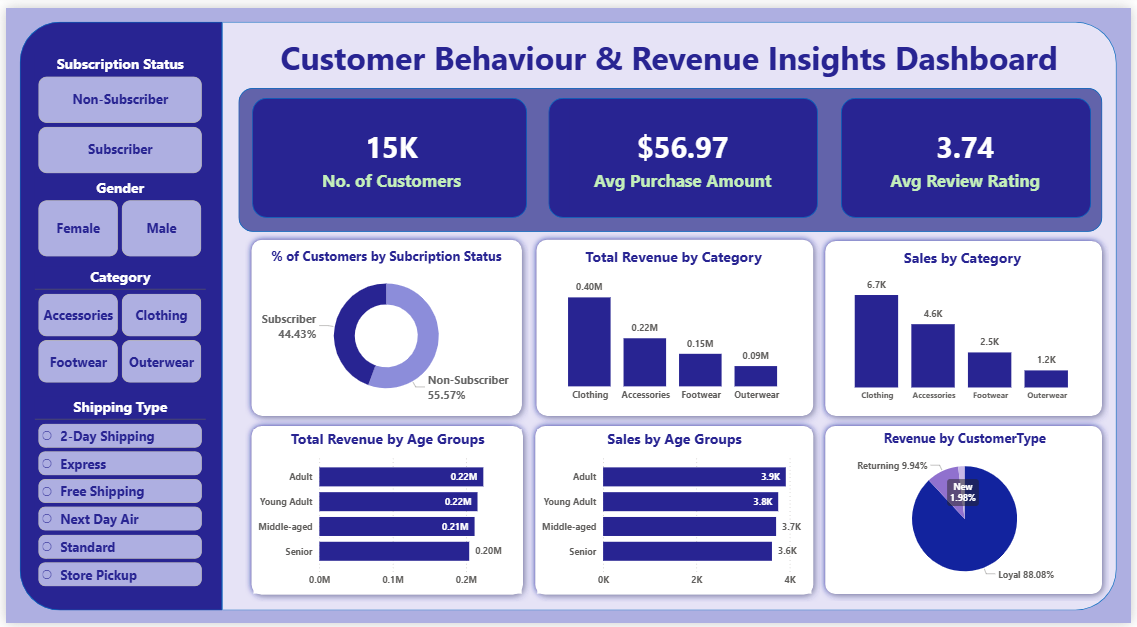

This screenshot's page, from the dashboard's own definition file:
{"tool":"powerbi","page":{"name":"Dashboard","canvas":[1500,820],"ordinal":0},"visuals":[{"type":"shape","box":[287.5,17.5,1192.5,785],"z":0},{"type":"shape","box":[328,120.7,366.3,159.7],"z":0,"group":"g4"},{"type":"shape","box":[318.3,548.3,380.1,242.9],"z":0,"group":"g1"},{"type":"shape","box":[1082.7,548.3,387,242],"z":0,"group":"g9"},{"type":"textbox","box":[288.3,31.7,1191.7,75],"z":1000},{"type":"shape","box":[723.8,120.7,359.2,159.7],"z":1000,"group":"g4"},{"type":"group","id":"g1","title":"Group 7","box":[318.3,548.3,380.1,242.9],"z":1000,"group":"g9"},{"type":"shape","box":[696.1,548.3,388.9,242.9],"z":1000,"group":"g2"},{"type":"shape","box":[17.5,17.5,270,785],"z":2000},{"type":"shape","box":[1112.4,120.7,333.3,159.7],"z":2000,"group":"g4"},{"type":"shape","box":[318.3,300.8,378.6,252.9],"z":2000,"group":"g5"},{"type":"group","id":"g2","title":"Group 8","box":[696.1,548.3,388.9,242.9],"z":2000,"group":"g9"},{"type":"clusteredBarChart","title":"Total Revenue by Age Groups","fields":{"Category":["customer_purchases.age_group"],"Y":["Sum(customer_purchases.purchase_amount)"]},"box":[330.1,562,357.7,218.9],"z":2000,"group":"g1"},{"type":"shape","box":[310,106.7,1151.7,191.7],"z":3000,"group":"g8"},{"type":"group","id":"g3","title":"Group 5","box":[318.3,300,1153.3,253.3],"z":3000},{"type":"donutChart","title":"% of Customers by Subcription Status","fields":{"Category":["customer_purchases.Subscriber Type"],"Y":["customer_purchases.No. of Customers"]},"box":[337,319.4,341.2,215.6],"z":3000,"group":"g5"},{"type":"clusteredBarChart","title":"Sales by Age Groups","fields":{"Y":["customer_purchases.Sales"],"Category":["customer_purchases.age_group"]},"box":[708.2,562,365.9,218.9],"z":3000,"group":"g2"},{"type":"advancedSlicerVisual","title":"Subscription Status","fields":{"Values":["customer_purchases.Subscriber Type"]},"box":[38.3,56.7,226.7,141.7],"z":4000},{"type":"group","id":"g4","title":"Group 1","box":[328,120.7,1117.7,159.7],"z":4000,"group":"g8"},{"type":"shape","box":[698.3,300,387.1,252.9],"z":4000,"group":"g6"},{"type":"advancedSlicerVisual","title":"Gender","fields":{"Values":["customer_purchases.gender"]},"box":[38.3,203.3,225,80],"z":5000},{"type":"group","id":"g5","title":"Group 2","box":[318.3,300.8,378.6,251.4],"z":5000,"group":"g3"},{"type":"shape","box":[1084,301.8,387.1,251.4],"z":5000,"group":"g7"},{"type":"group","id":"g6","title":"Group 3","box":[698.3,300,387.1,252.9],"z":6000,"group":"g3"},{"type":"advancedSlicerVisual","title":"Category","fields":{"Values":["customer_purchases.category"]},"box":[38.3,301.7,226.7,163.3],"z":6000},{"type":"columnChart","title":"Total Revenue by Category","fields":{"Category":["customer_purchases.category"],"Y":["customer_purchases.Total Revenue"]},"box":[715.5,317.8,350.4,216.4],"z":6000,"group":"g6"},{"type":"group","id":"g7","title":"Group 4","box":[1084,301.8,387.1,251.4],"z":7000,"group":"g3"},{"type":"columnChart","title":"Sales by Category","fields":{"Category":["customer_purchases.category"],"Y":["customer_purchases.Sales"]},"box":[1096.6,320.3,357.1,214.2],"z":7000,"group":"g7"},{"type":"advancedSlicerVisual","title":"Shipping Type","fields":{"Values":["customer_purchases.shipping_type"]},"box":[40,614.3,228.6,164.3],"z":7000},{"type":"group","id":"g8","title":"Group 6","box":[310,106.7,1151.7,191.7],"z":8000},{"type":"card","fields":{"Values":["customer_purchases.No. of Customers"]},"box":[362.2,128.3,301.5,144.5],"z":8000,"group":"g4"},{"type":"card","fields":{"Values":["customer_purchases.Avg Purchase Amount"]},"box":[752.2,128.3,301.5,144.5],"z":9000,"group":"g4"},{"type":"group","id":"g9","title":"Group 9","box":[318.3,548.3,1151.7,243.3],"z":9000},{"type":"card","fields":{"Values":["customer_purchases.Avg Review Rating"]},"box":[1128.1,128.3,301.5,144.5],"z":10000,"group":"g4"},{"type":"pieChart","title":"Revenue by CustomerType","fields":{"Category":["customer_purchases.CustomerType"],"Y":["Sum(customer_purchases.purchase_amount)"]},"box":[1111.7,561.7,333.3,216.7],"z":10000},{"type":"advancedSlicerVisual","title":"Season","fields":{"Values":["customer_purchases.season"]},"box":[40,471.4,227.1,128.6],"z":11000}]}

Visuals, with their boxes in screenshot pixels (x1, y1, x2, y2), scaled from the page's 1500x820 canvas onto the 1137x627 screenshot:
shape: Rect(218, 13, 1122, 614)
shape: Rect(249, 92, 526, 214)
shape: Rect(241, 419, 529, 605)
shape: Rect(821, 419, 1114, 604)
textbox: Rect(219, 24, 1122, 82)
shape: Rect(549, 92, 821, 214)
"Group 7" group: Rect(241, 419, 529, 605)
shape: Rect(528, 419, 822, 605)
shape: Rect(13, 13, 218, 614)
shape: Rect(843, 92, 1096, 214)
shape: Rect(241, 230, 528, 423)
"Group 8" group: Rect(528, 419, 822, 605)
"Total Revenue by Age Groups" clusteredBarChart: Rect(250, 430, 521, 597)
shape: Rect(235, 82, 1108, 228)
"Group 5" group: Rect(241, 229, 1115, 423)
"% of Customers by Subcription Status" donutChart: Rect(255, 244, 514, 409)
"Sales by Age Groups" clusteredBarChart: Rect(537, 430, 814, 597)
"Subscription Status" advancedSlicerVisual: Rect(29, 43, 201, 152)
"Group 1" group: Rect(249, 92, 1096, 214)
shape: Rect(529, 229, 823, 423)
"Gender" advancedSlicerVisual: Rect(29, 155, 200, 217)
"Group 2" group: Rect(241, 230, 528, 422)
shape: Rect(822, 231, 1115, 423)
"Group 3" group: Rect(529, 229, 823, 423)
"Category" advancedSlicerVisual: Rect(29, 231, 201, 356)
"Total Revenue by Category" columnChart: Rect(542, 243, 808, 408)
"Group 4" group: Rect(822, 231, 1115, 423)
"Sales by Category" columnChart: Rect(831, 245, 1102, 409)
"Shipping Type" advancedSlicerVisual: Rect(30, 470, 204, 595)
"Group 6" group: Rect(235, 82, 1108, 228)
card - customer_purchases.No. of Customers: Rect(275, 98, 503, 209)
card - customer_purchases.Avg Purchase Amount: Rect(570, 98, 799, 209)
"Group 9" group: Rect(241, 419, 1114, 605)
card - customer_purchases.Avg Review Rating: Rect(855, 98, 1084, 209)
"Revenue by CustomerType" pieChart: Rect(843, 429, 1095, 595)
"Season" advancedSlicerVisual: Rect(30, 360, 202, 459)
